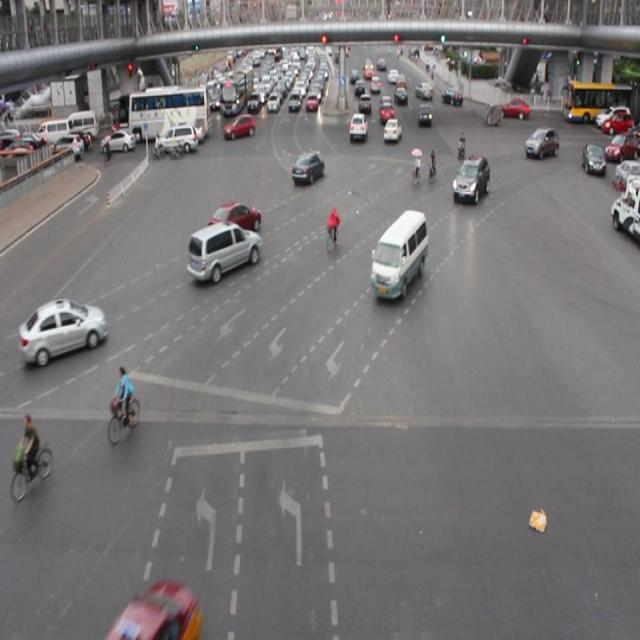car: (20, 297, 107, 362), (208, 201, 261, 239), (451, 155, 490, 203), (290, 152, 324, 187), (524, 126, 558, 161)
truck: (370, 208, 428, 304), (186, 222, 261, 280)
